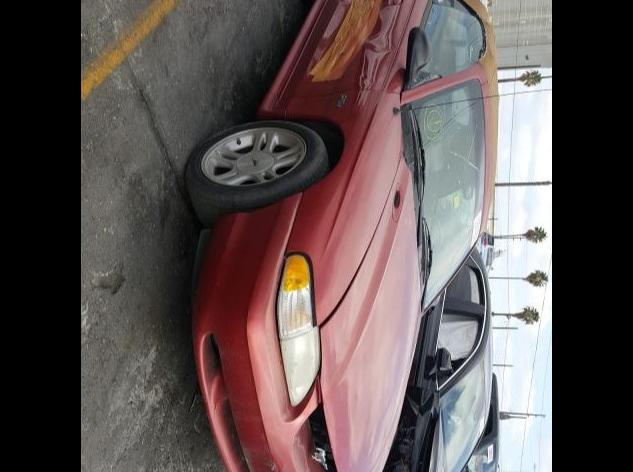Broken part: (316, 210, 382, 332)
Dent: (306, 0, 382, 94), (362, 32, 397, 86), (356, 16, 382, 40), (374, 0, 404, 14), (358, 56, 368, 90), (314, 34, 330, 52), (308, 56, 320, 74)
Flaking: (240, 440, 270, 466), (290, 434, 310, 472), (260, 430, 270, 454)
Scratch: (356, 88, 372, 106)
